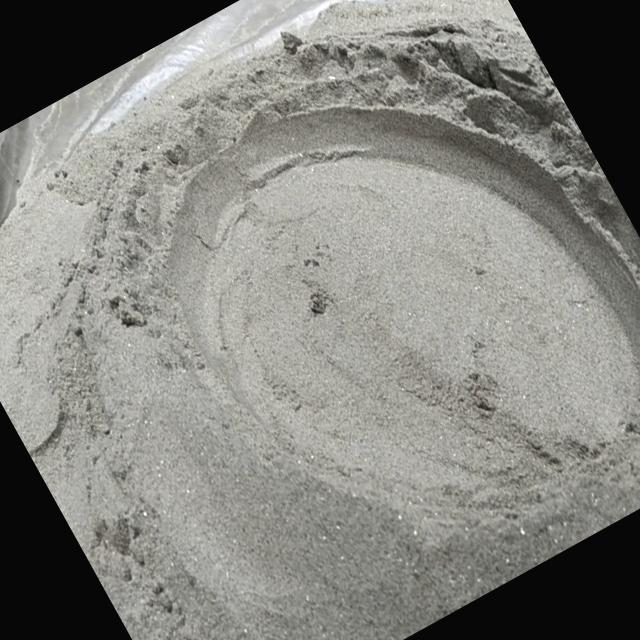C40: (169, 106, 640, 494)
